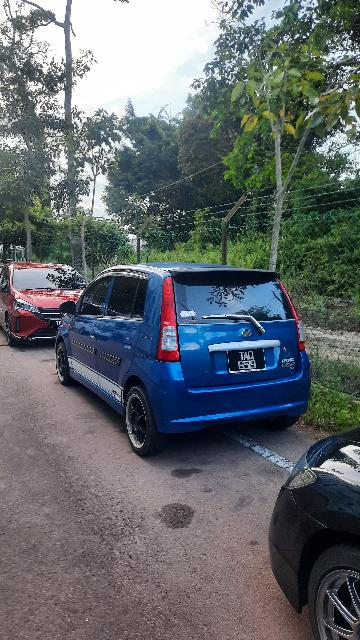License_Plate: (225, 345, 271, 377)
car: (53, 259, 327, 461)
